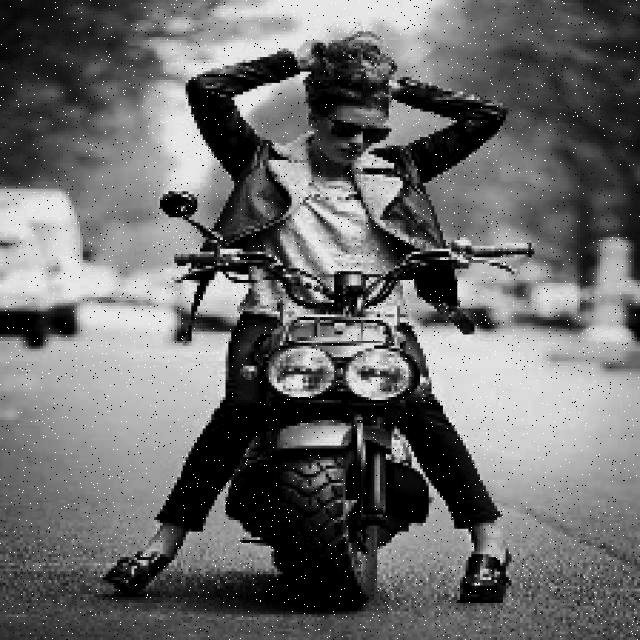Bike: (193, 240, 459, 613)
